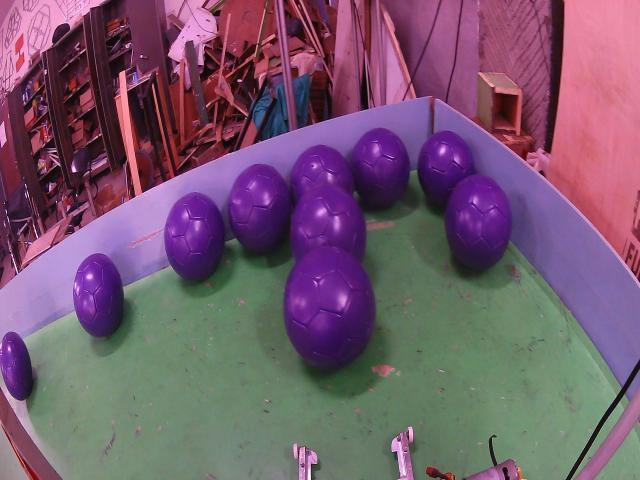jambhalya: (284, 247, 376, 370), (445, 175, 511, 270), (290, 185, 366, 260), (228, 163, 291, 252), (164, 193, 225, 280), (351, 128, 410, 207), (72, 253, 124, 337), (418, 130, 475, 205), (290, 145, 354, 203), (0, 332, 32, 400)
